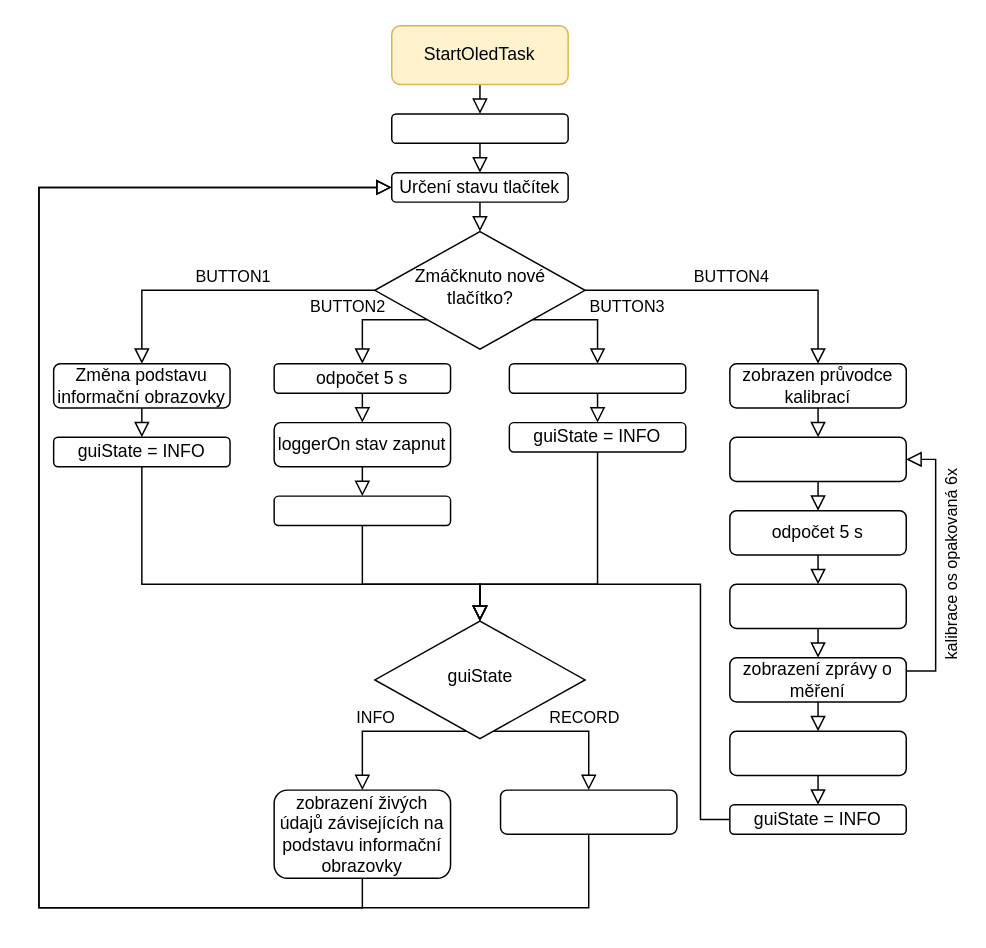
This 986x948 diagram has some shape labels left out. Here are the shapes that lost their labels. From the top down, the box of each, then its label:
(390, 112, 568, 143): Inicializace displeje
(508, 362, 686, 393): loggerOn stav vypnut
(728, 436, 906, 481): čekání na stisk tlačítka
(273, 495, 451, 526): guiState = RECORD
(728, 583, 906, 628): kalibrace osy
(728, 730, 906, 775): výpočet kalibračních konstant
(499, 789, 677, 834): zobrazení času délky měření
